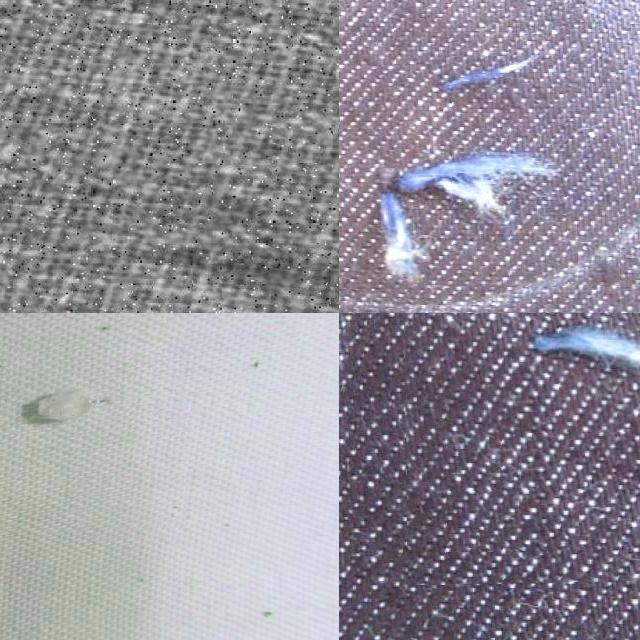Thread_other: (339, 0, 617, 288), (401, 313, 640, 583), (0, 313, 184, 531)
